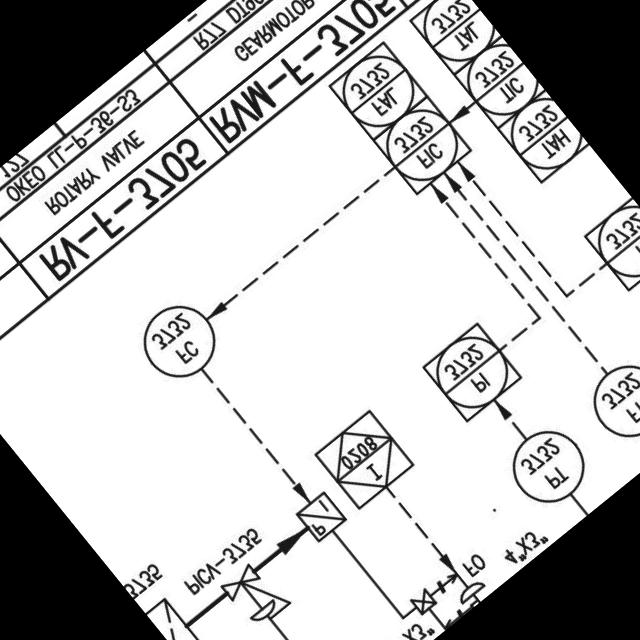EPA: (288, 483, 356, 552)
PCV: (218, 558, 296, 640)
